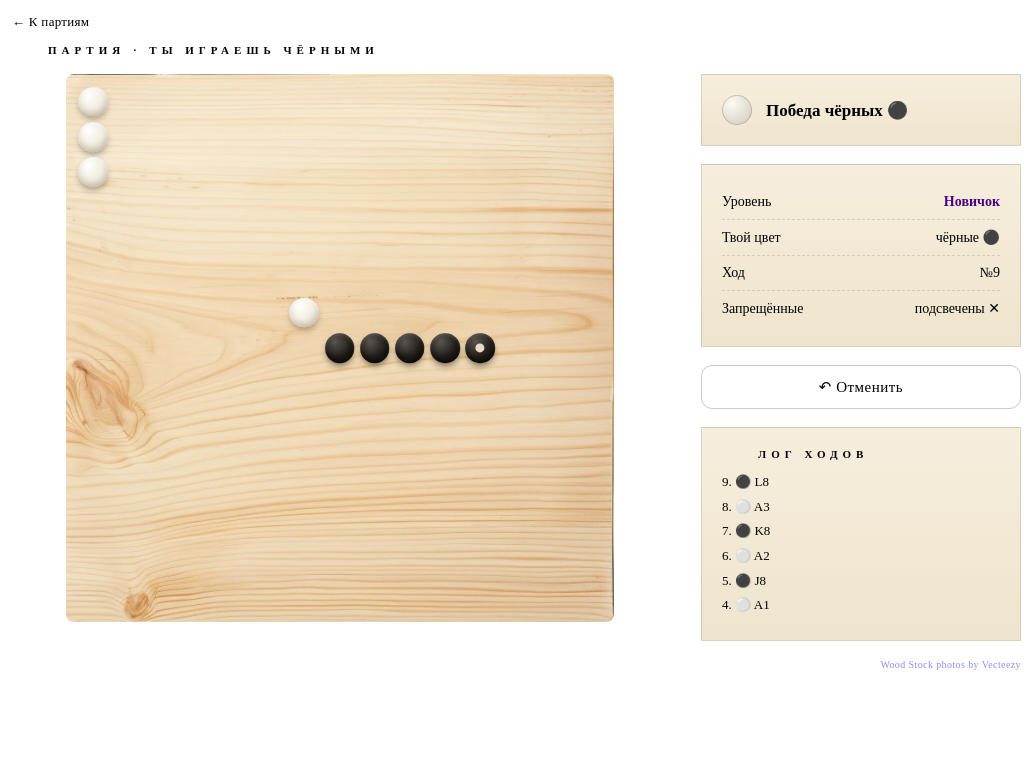
Scenario: финиш: текст победы, линия подсвечена; undo возвращает игру и гасит подсветку
Expected: the text "Победа чёрных ⚫" is shown, [766,100,908,120]
Expected: the element with test id "win-9-7" is shown, [395,333,425,363]
# ждём резолва настроек (кнопка disabled пока политика не загружена)
Click the button "↶ Отменить".
click(861, 387)  # box [701,365,1021,409]
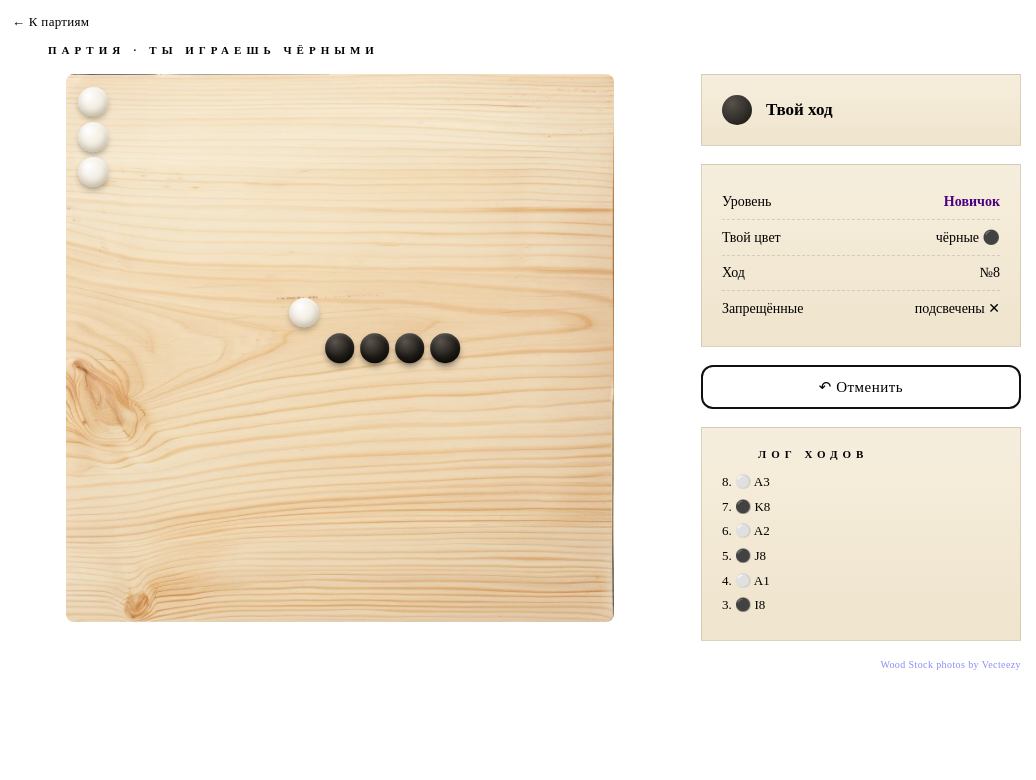
Expected: the text "Твой ход" is shown, [766,100,833,120]
